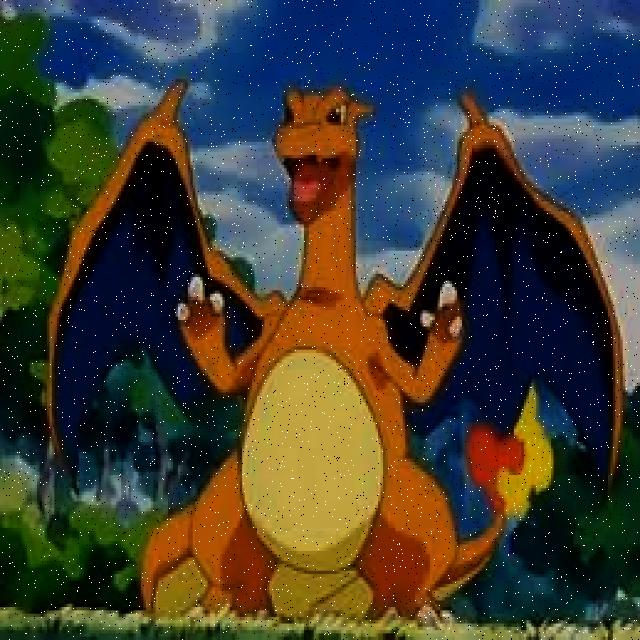charizard: (47, 43, 624, 630)
